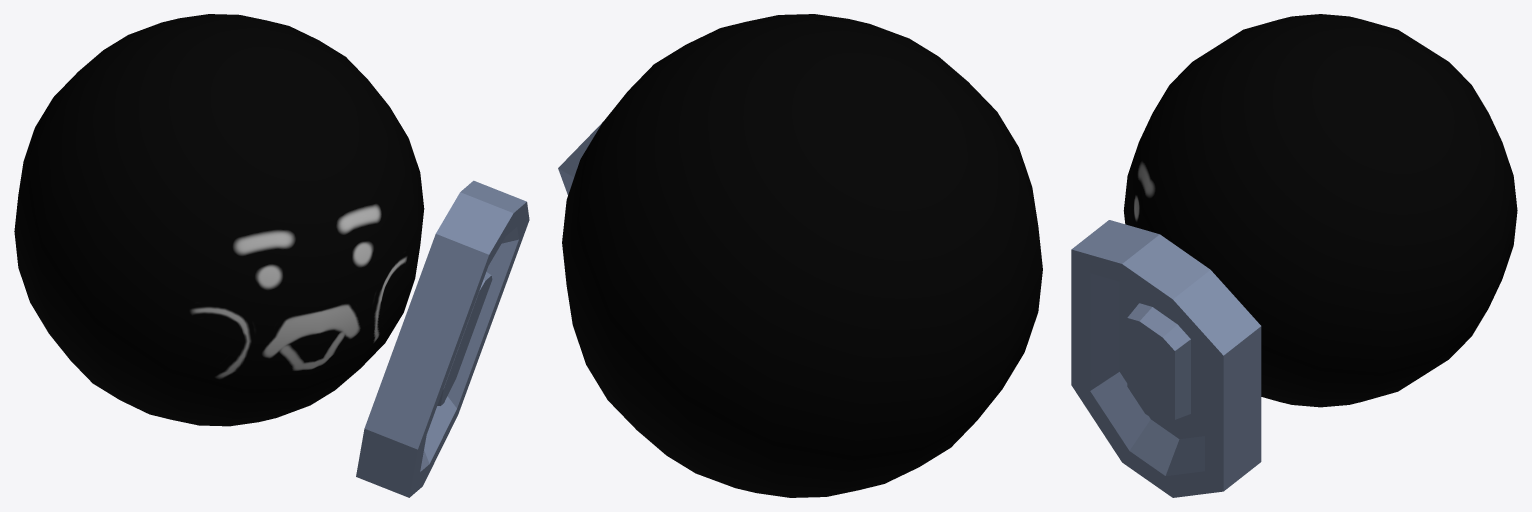
File: TestBubbleTank_A.fbx
3 renders of one model, left to right at view 1: azimuth 30°, elevation 25°; view 2: azimuth 150°, elevation 25°; view 3: azimuth 270°, elevation 25°, orthographic. The views are drawn at different scales.
Visible parts, largest first — view 1: dark.004, shield.003; view 2: dark.004, shield.003; view 3: dark.004, shield.003.
Part boxes in pixels (x1,y1,x2,y2): dark.004: (14, 14, 424, 426); shield.003: (356, 180, 529, 497); dark.004: (562, 14, 1042, 497); shield.003: (558, 121, 603, 194); dark.004: (1123, 14, 1517, 407); shield.003: (1071, 220, 1261, 497).
Size of the model in its own units: 245 by 228 by 227.
2 materials, 1 textured.
